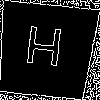H: (21, 25, 66, 75)
